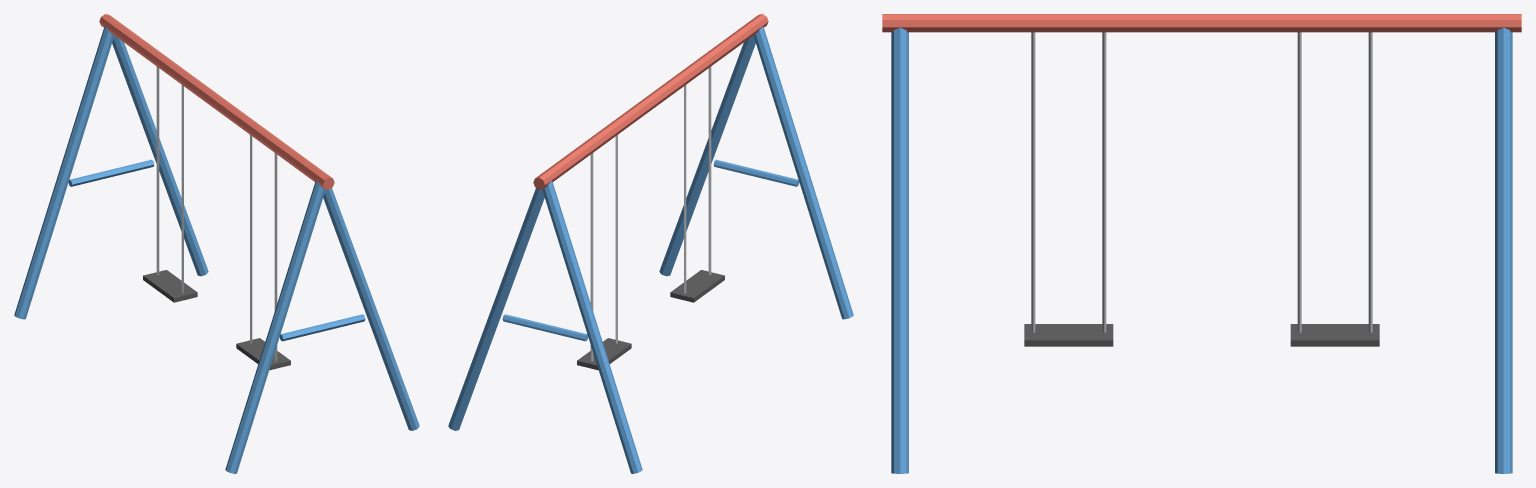
File: swings.glb
3 views of the same model, side by side, from view 1: azimuth 30°, elevation 25°; view 2: azimuth 150°, elevation 25°; view 3: azimuth 270°, elevation 25° (orthographic). The views are drawn at different scales.
Parts seen in each view (by area): view 1: model; view 2: model; view 3: model.
Boxes of the visible parts, box(x1,y1,x2,y2) form: model: box(14, 14, 419, 473); model: box(448, 14, 853, 473); model: box(882, 14, 1521, 473).
Size of the model in its own units: 1.79 by 2.47 by 3.6.
